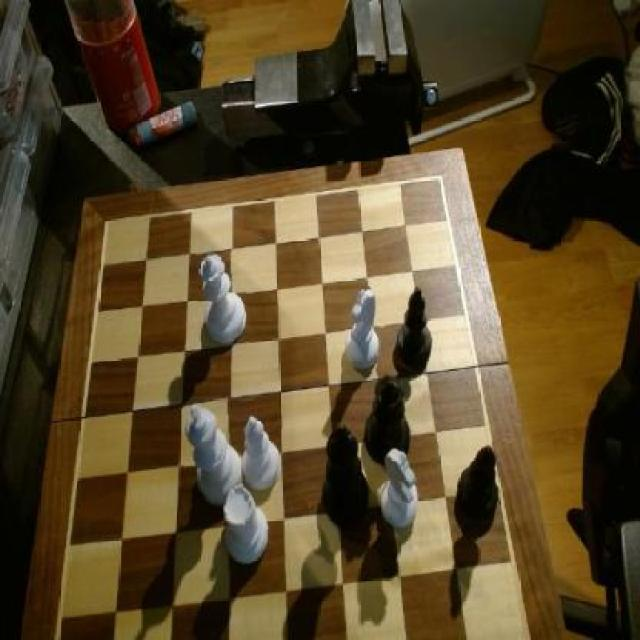bishop: (456, 445, 502, 532), (396, 285, 434, 372)
black-bishop: (322, 422, 372, 532)
black-pawn: (366, 372, 412, 465)
black-rook: (238, 414, 284, 495)
white-bishop: (182, 398, 242, 507)
white-king: (379, 446, 423, 531), (344, 286, 384, 374)
white-pawn: (198, 250, 250, 348)
white-queen: (222, 486, 272, 571)
